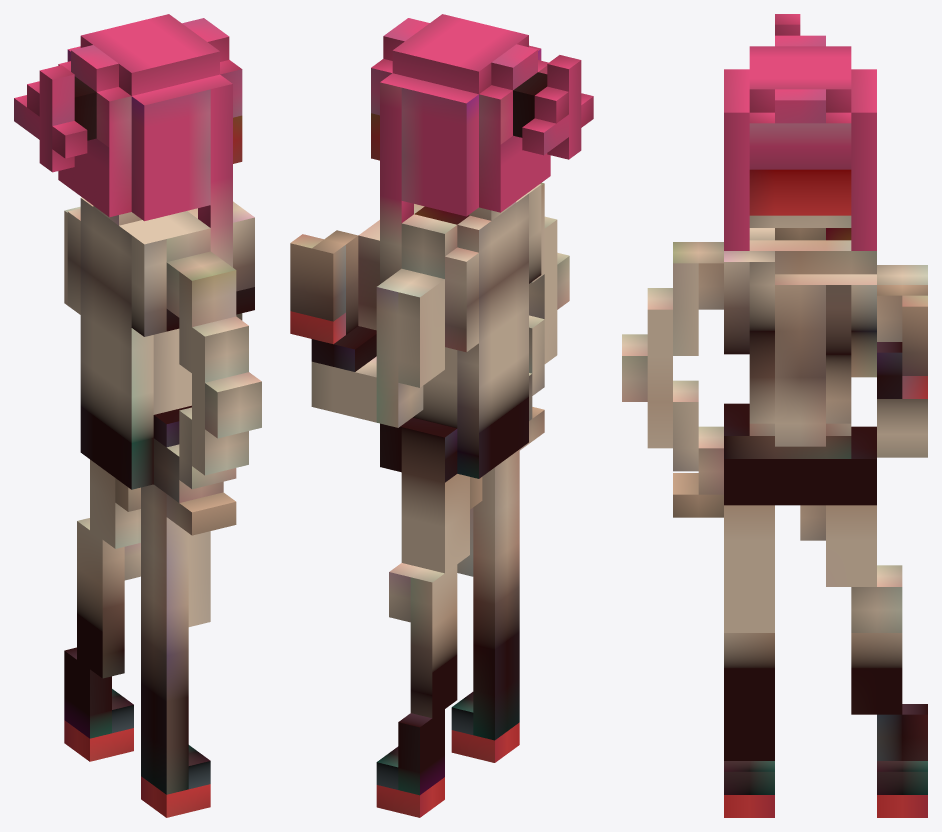
The model's file is Character_B_00.fbx.
The picture shows the model from 3 angles, left to right: view 1: azimuth 30°, elevation 25°; view 2: azimuth 150°, elevation 25°; view 3: azimuth 270°, elevation 25°; orthographic projection. The views are drawn at different scales.
Parts seen in each view (by area): view 1: Character_B_00; view 2: Character_B_00; view 3: Character_B_00.
Boxes of the visible parts, box(x1,y1,x2,y2) form: Character_B_00: box(14, 14, 261, 817); Character_B_00: box(290, 14, 593, 817); Character_B_00: box(622, 14, 927, 817).
Size of the model in its own units: 50 by 160 by 60.
